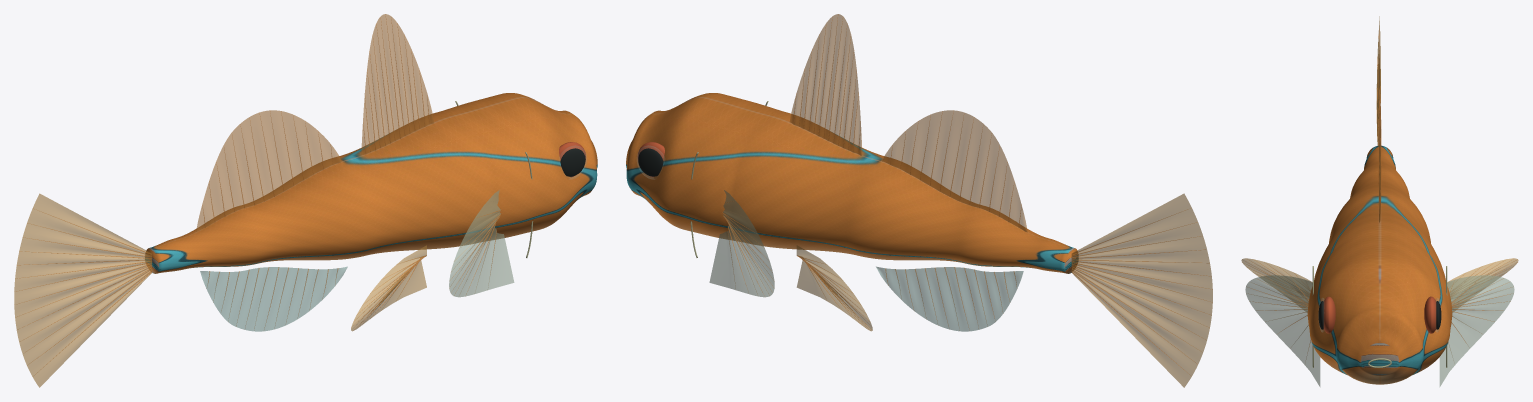
File: mandarin-desktop.glb
The picture shows the model from 3 angles, left to right: view 1: azimuth 30°, elevation 25°; view 2: azimuth 150°, elevation 25°; view 3: azimuth 270°, elevation 25°; orthographic projection. The views are drawn at different scales.
Visible parts, largest first — view 1: skin, dorsal, tail, anal, dorsal-ray, pectoral-left, pelvic-left, eye-pupil--1; view 2: skin, tail, dorsal, anal, dorsal-ray, pectoral-left, pelvic-left, eye-pupil--1; view 3: skin, pectoral-left, pelvic-left, dorsal-ray, eye-iris--1, tail, operculum, eye-pupil--1, dorsal.
Boxes of the visible parts, x1,y1,x2,y2 form: skin: (145,93,597,273); dorsal: (196,14,434,231); tail: (14,193,151,387); anal: (200,266,347,331); dorsal-ray: (16,16,501,374); pectoral-left: (449,190,514,297); pelvic-left: (351,245,426,330); eye-pupil--1: (560,148,585,176); skin: (626,93,1078,273); tail: (1071,193,1212,387); dorsal: (789,14,1027,232); anal: (876,266,1023,331); dorsal-ray: (722,15,1212,374); pectoral-left: (709,190,774,297); pelvic-left: (796,245,872,331); eye-pupil--1: (638,148,663,176); skin: (1307,145,1452,384); pectoral-left: (1245,275,1514,386); pelvic-left: (1241,258,1518,312); dorsal-ray: (1242,29,1517,353); eye-iris--1: (1323,296,1436,333); tail: (1376,16,1380,145); operculum: (1312,266,1447,367); eye-pupil--1: (1318,301,1441,329); dorsal: (1379,90,1380,222).
Size of the model in its own units: 0.5972 by 0.2858 by 0.2595.
Materials: 11 (1 with a texture image).
